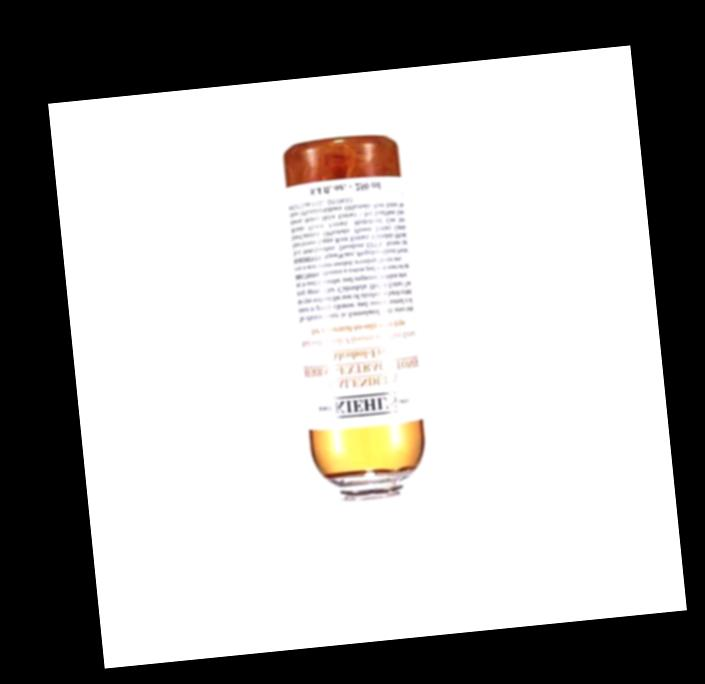cosmetic: (282, 129, 439, 578)
